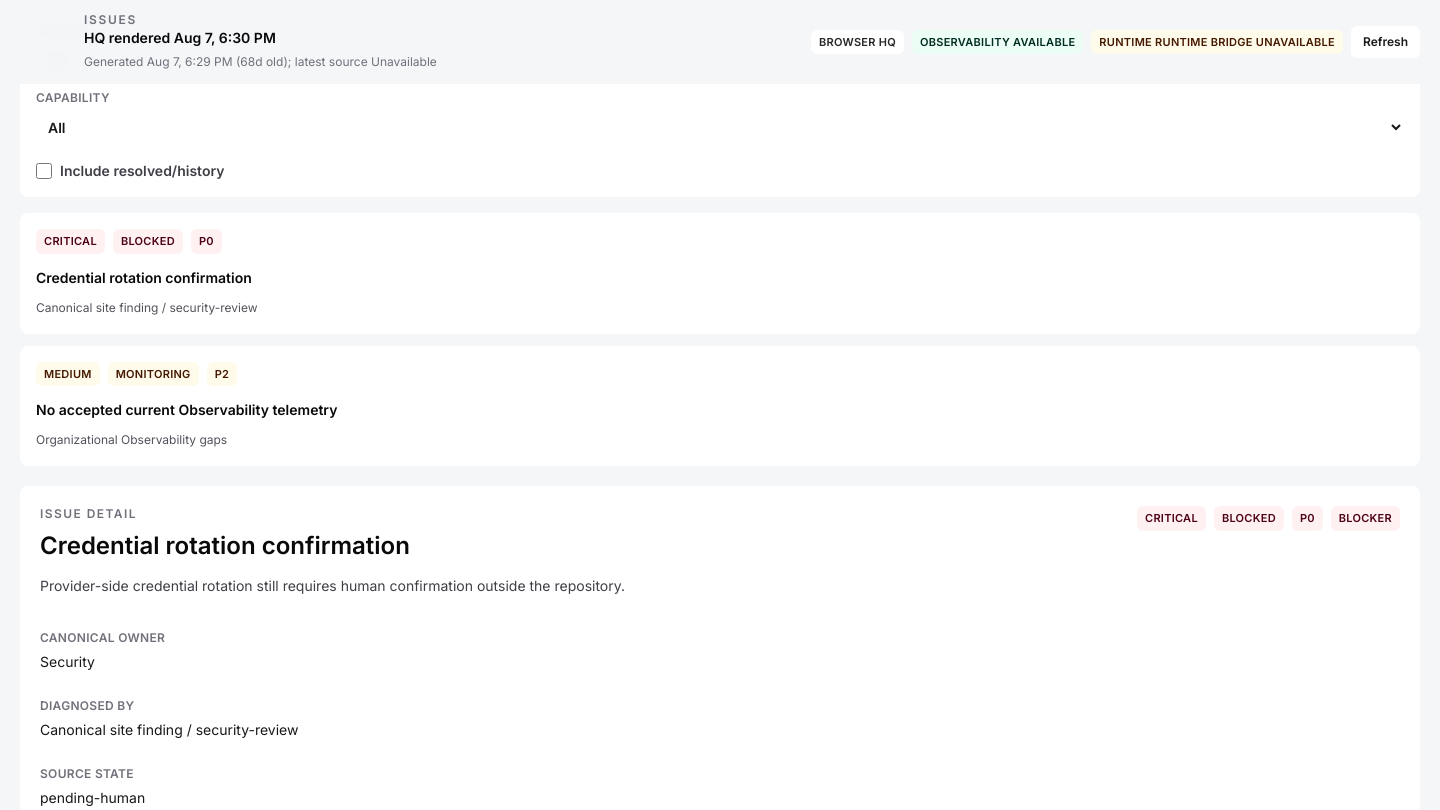
Test case: DeltaHQ Issues UI › renders missing Observability as unavailable evidence instead of inferred health
The image size is (1440, 810).
(page scrolled)
Click the button "No accepted current Observability telemetry" at (720, 406), box [20,346,1420,466]
(page scrolled)
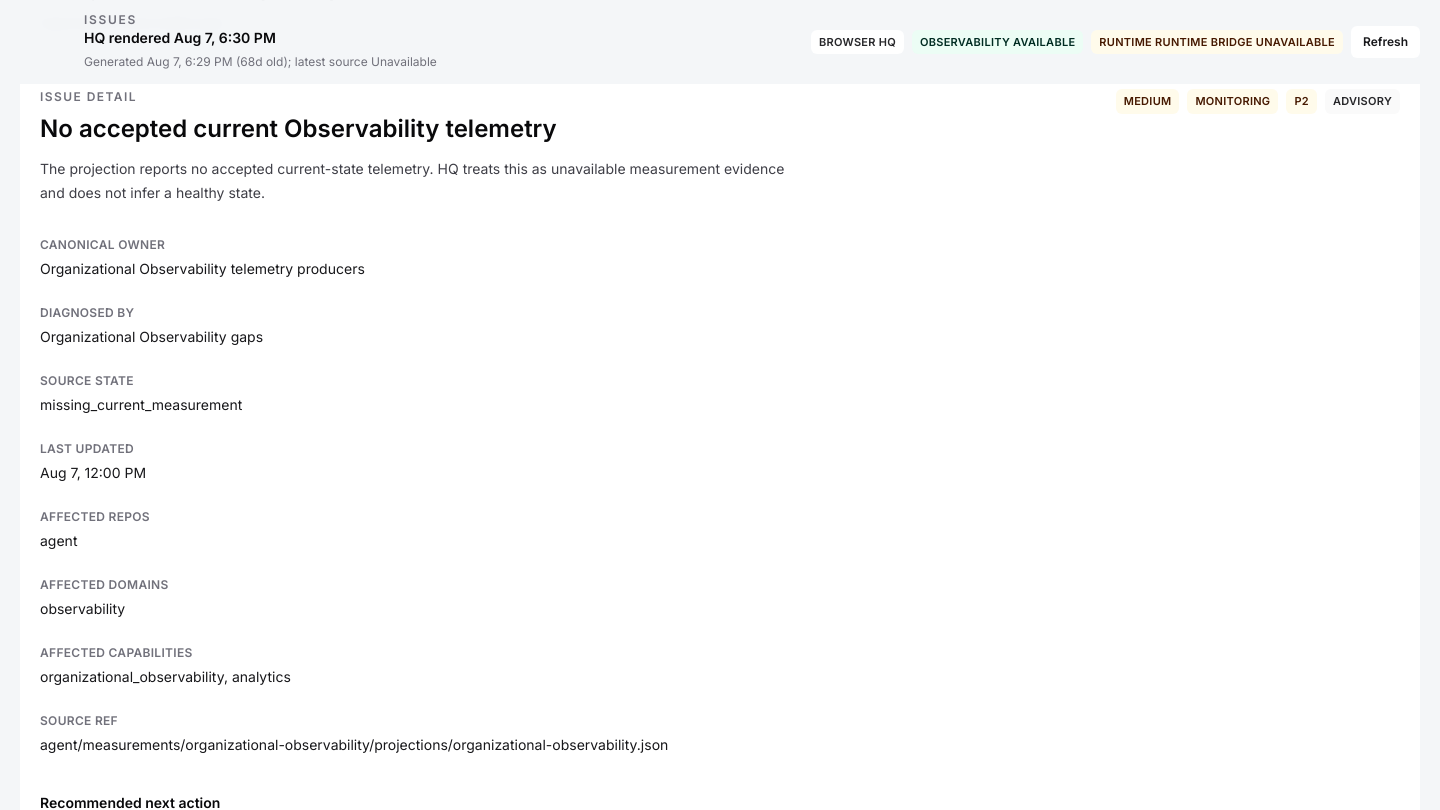
Now the text "does not infer a healthy state" is shown, box [40,160,784,201]
Now the text "missing_current_measurement" is shown, box [40,396,242,413]
